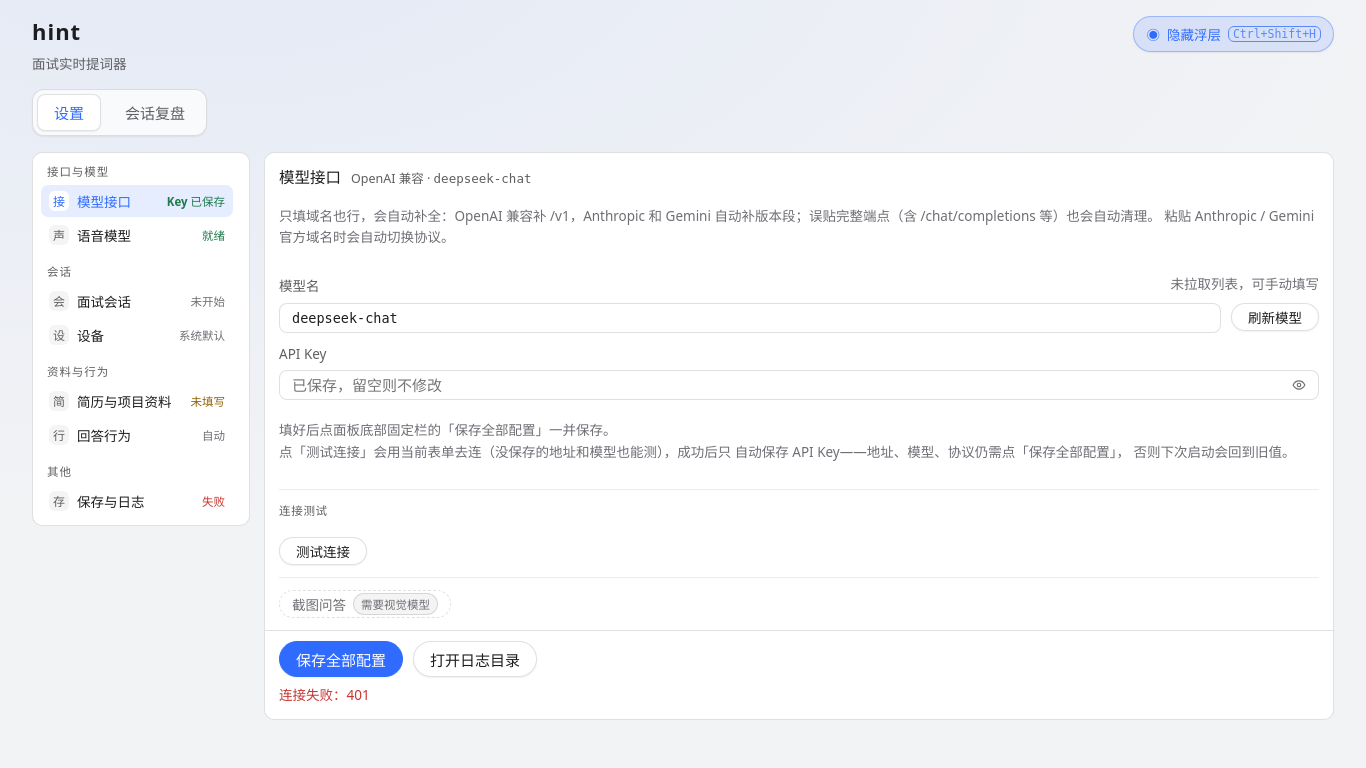
Test case: Dashboard —— 测试连接流转 › testConnection 返回 null：不写答案区，测试结论标连接失败
(page scrolled)
Step 1. Click the button "测试连接" → (323, 551), box [279, 537, 367, 565]
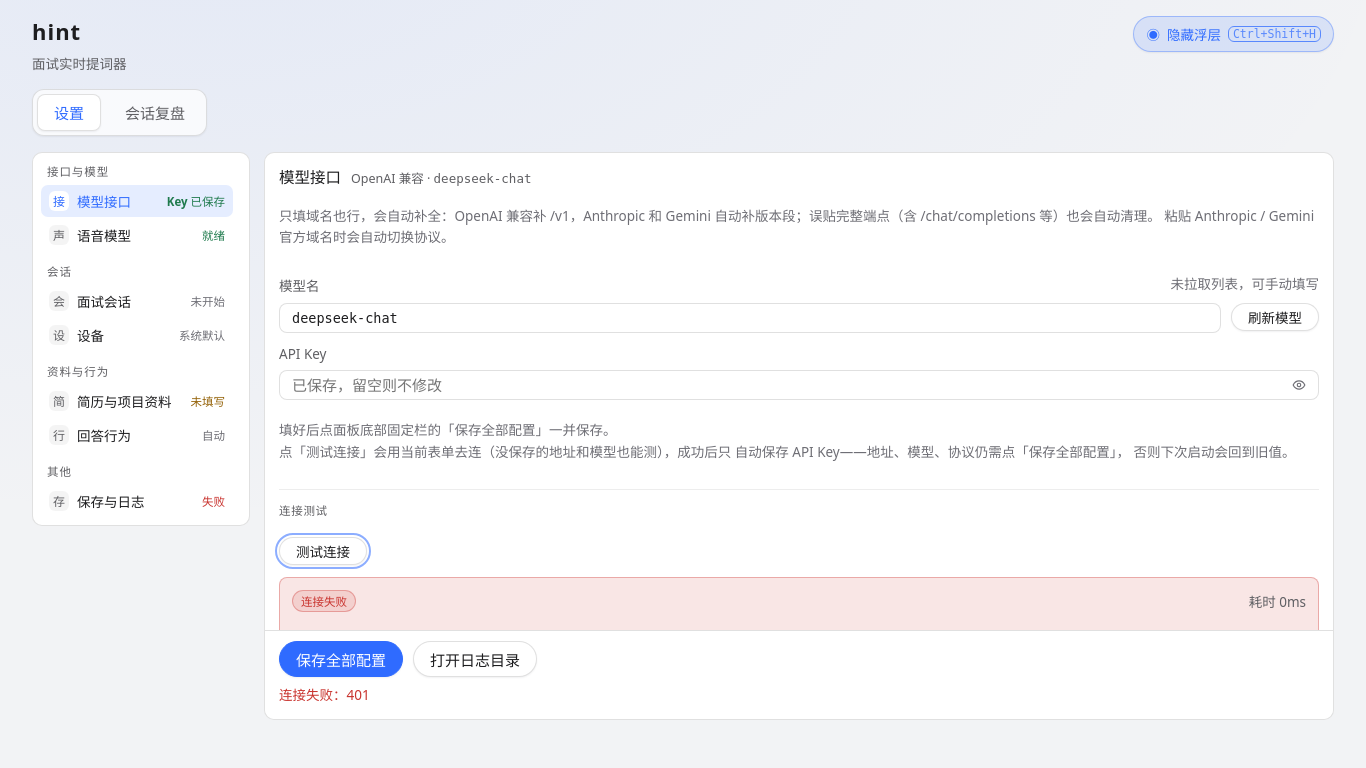
Now the text "连接失败" is shown, box [292, 590, 356, 612]
